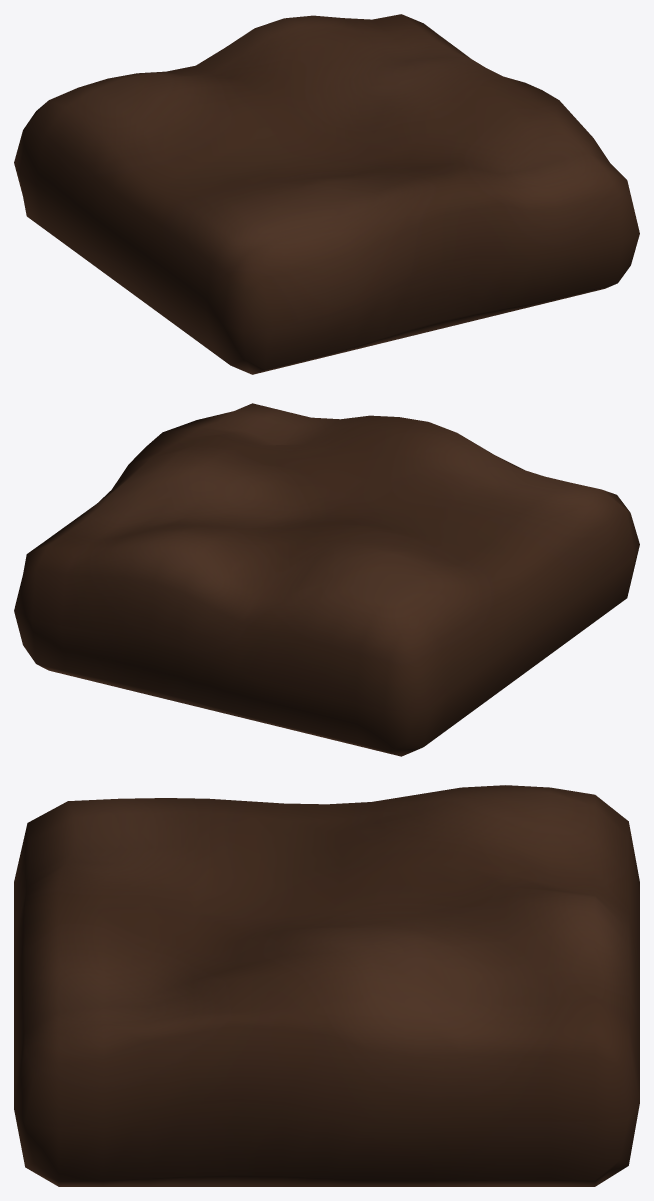
File: Ground.FBX
3 renders of one model, top to bottom at view 1: azimuth 30°, elevation 25°; view 2: azimuth 150°, elevation 25°; view 3: azimuth 270°, elevation 25°, orthographic. The views are drawn at different scales.
Parts seen in each view (by area): view 1: Box001; view 2: Box001; view 3: Box001.
Part boxes in pixels (x1,y1,x2,y2): Box001: [14, 14, 639, 374]; Box001: [14, 403, 639, 756]; Box001: [14, 785, 639, 1186].
Bounding box in the file's own units: 10 × 3.58 × 10.
